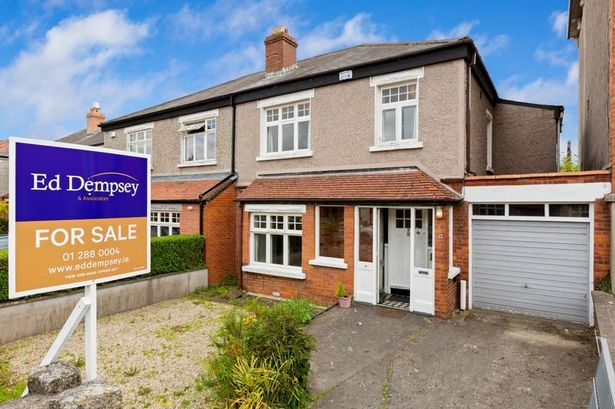property sign: (3, 126, 160, 304)
